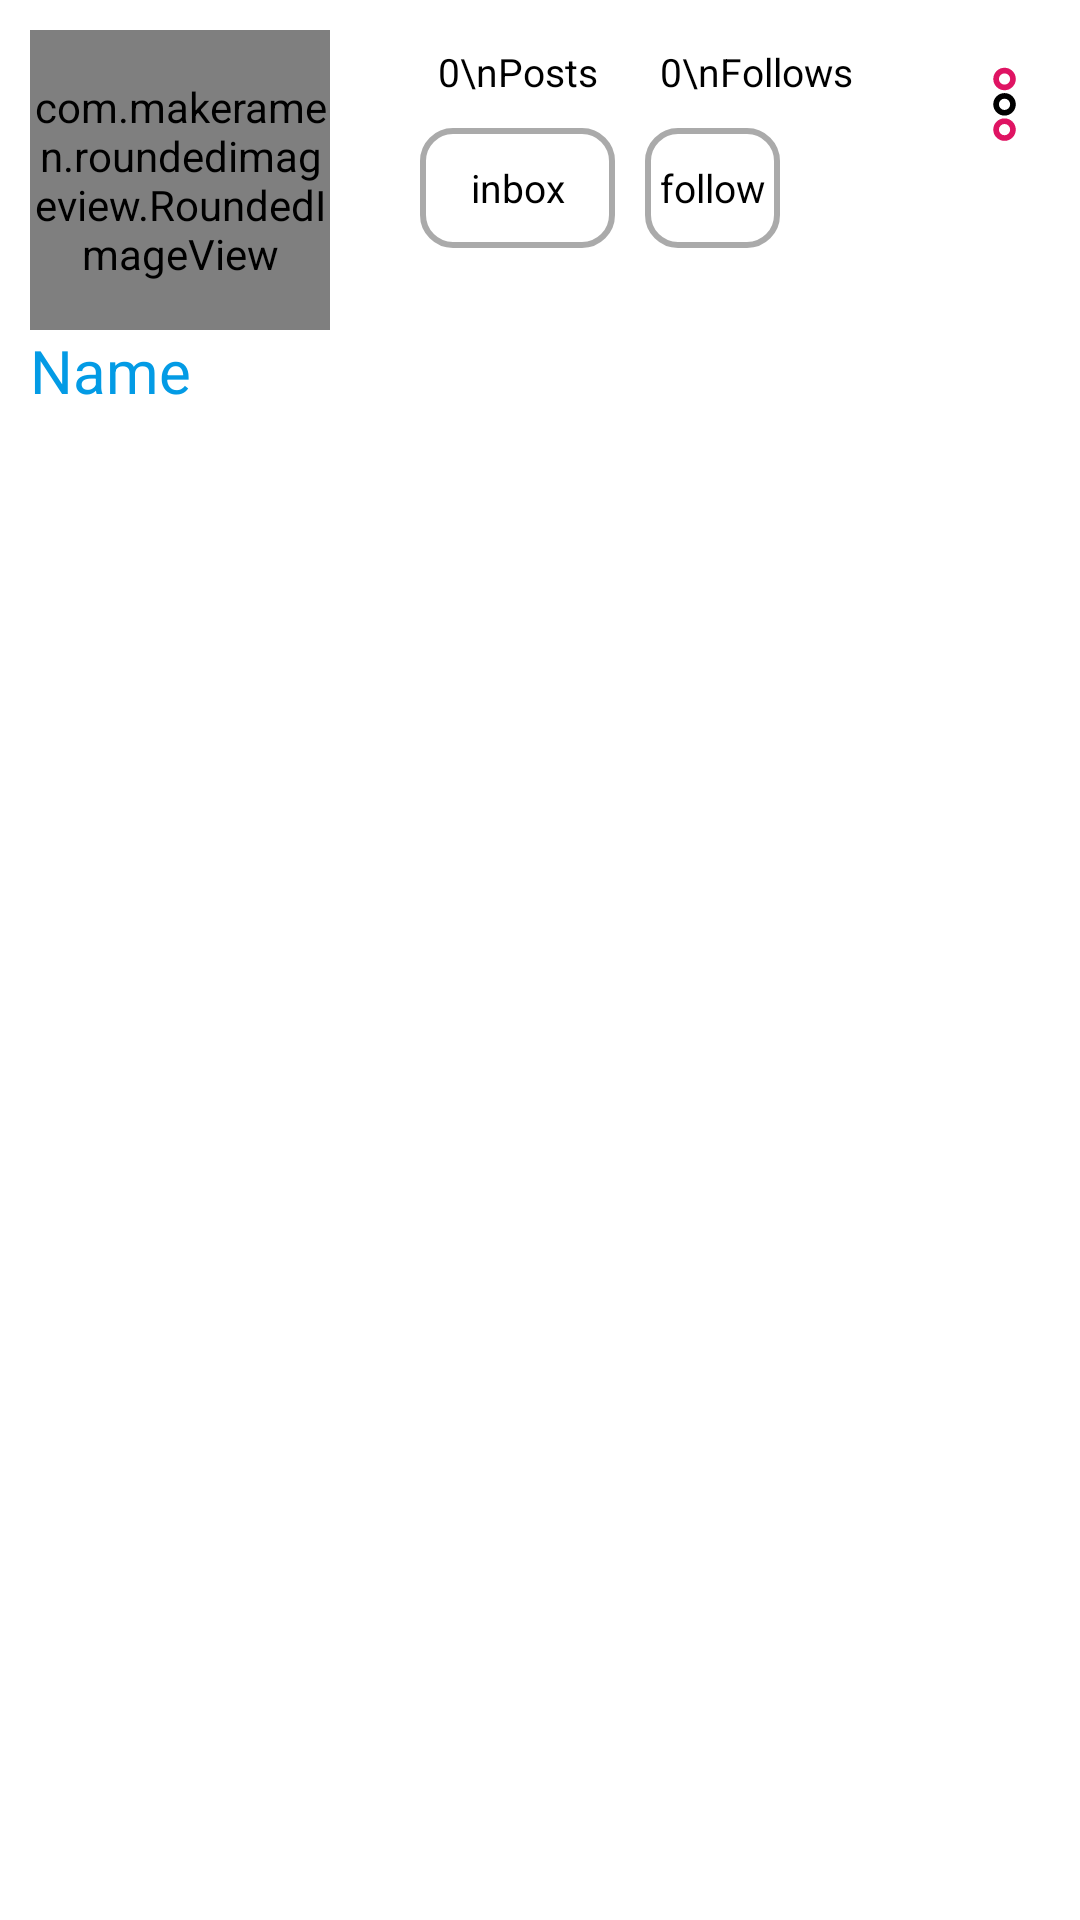

Screen size 1080x1920. Icon name, then its box in pixels as (x1, y1, x2, y2):
more: (993, 67, 1016, 141)
